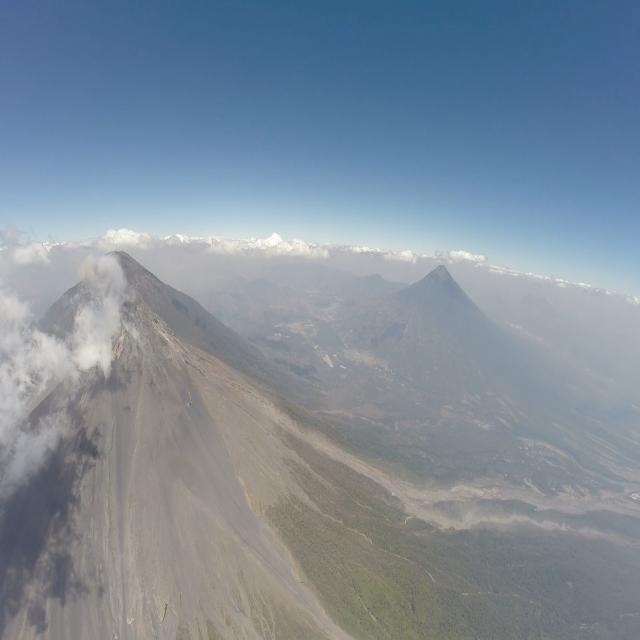Plume: (76, 252, 108, 294)
Summit: (92, 288, 190, 378)
